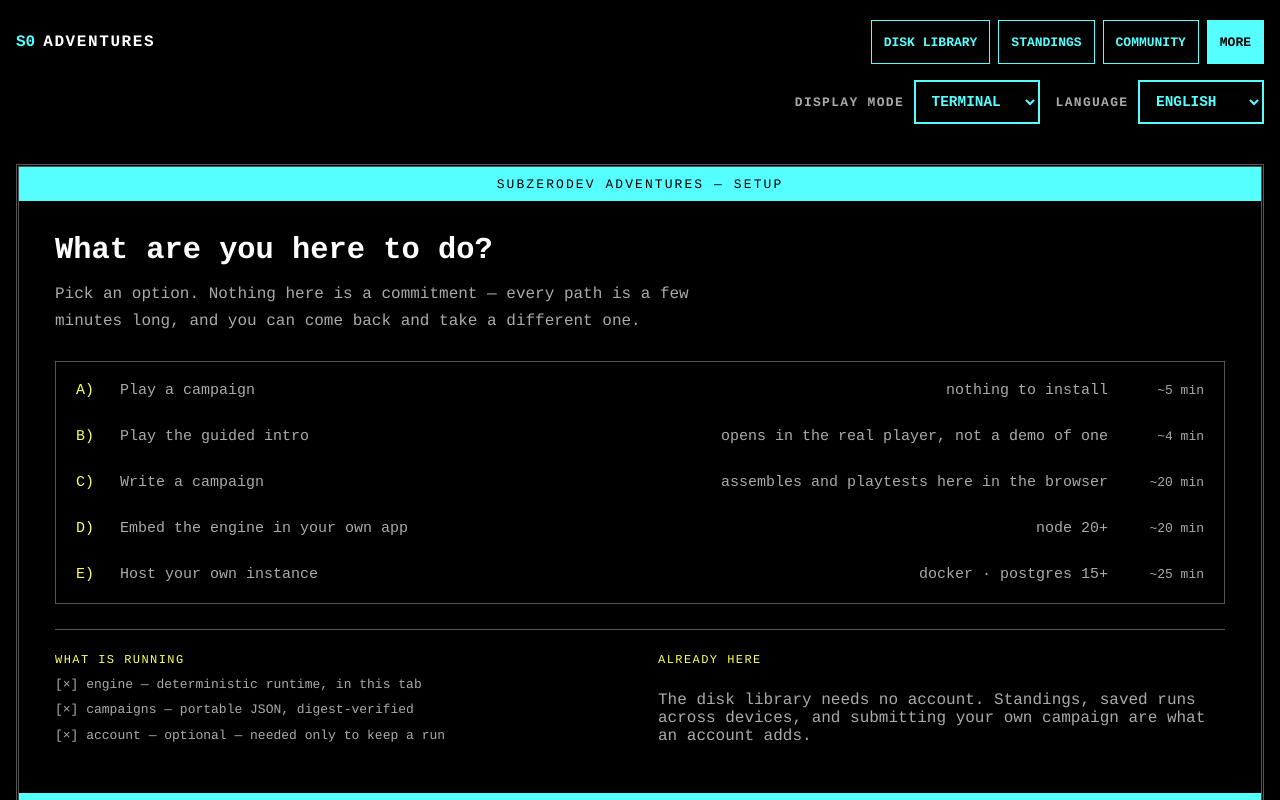
Scenario: StartPage › walks a chosen path and reports real step progress
Step 1. Click the button "A) Play a campaign nothing to install ~5 min" → (188, 390), box [62, 368, 1218, 412]
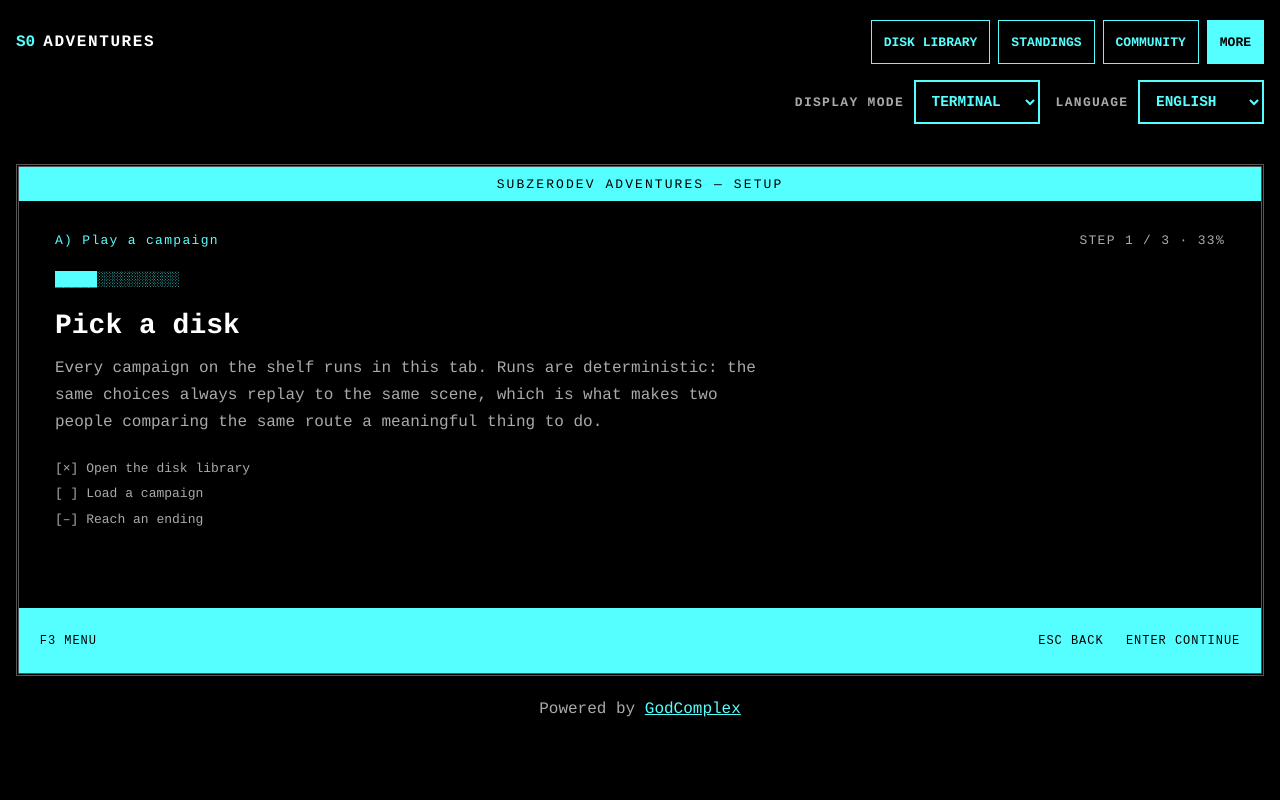
Result: the heading "Pick a disk" is shown at [55, 311, 240, 342]
Result: the text "STEP 1 / 3 · 33%" is shown at [1079, 233, 1225, 248]
Step 2. Click the button "ENTER CONTINUE" → (1183, 641), box [1123, 619, 1243, 663]
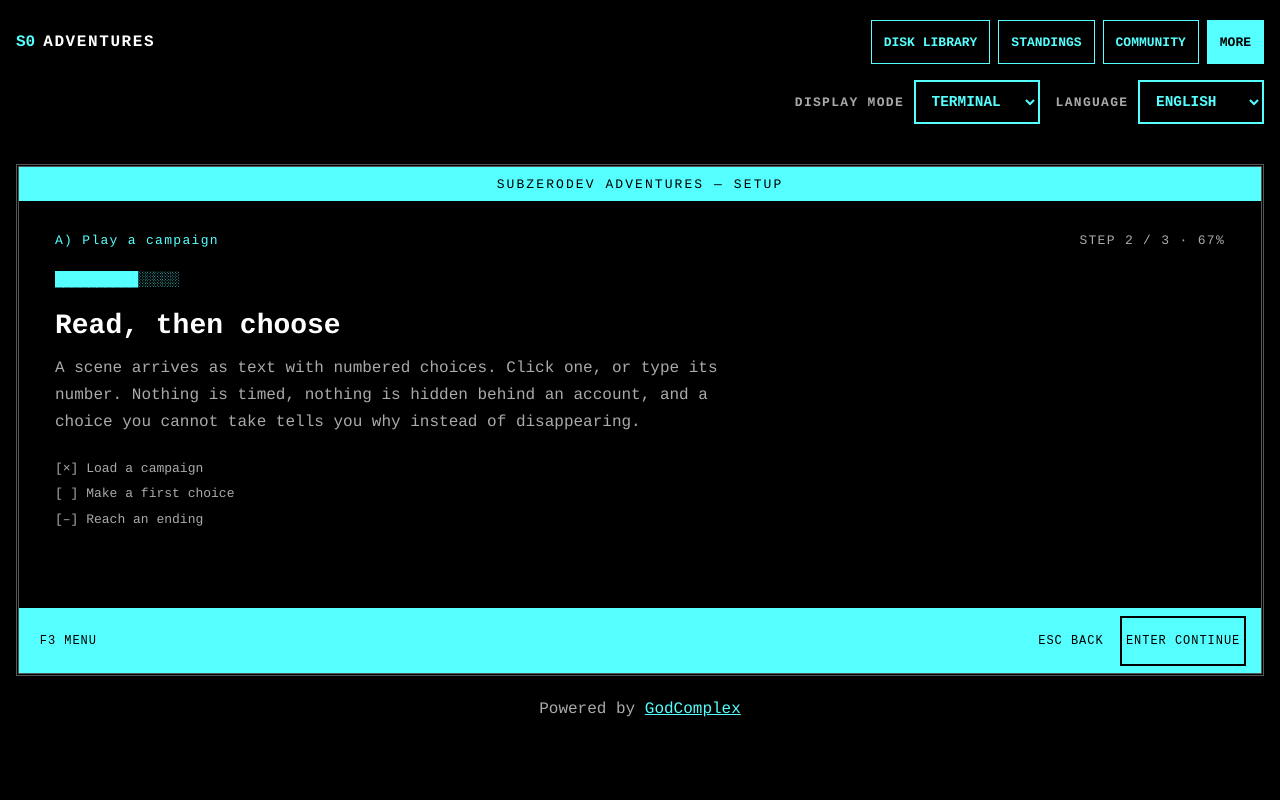
Result: the heading "Read, then choose" is shown at [55, 311, 341, 342]
Step 3. Click the button "ESC BACK" → (1071, 641), box [1035, 619, 1107, 663]
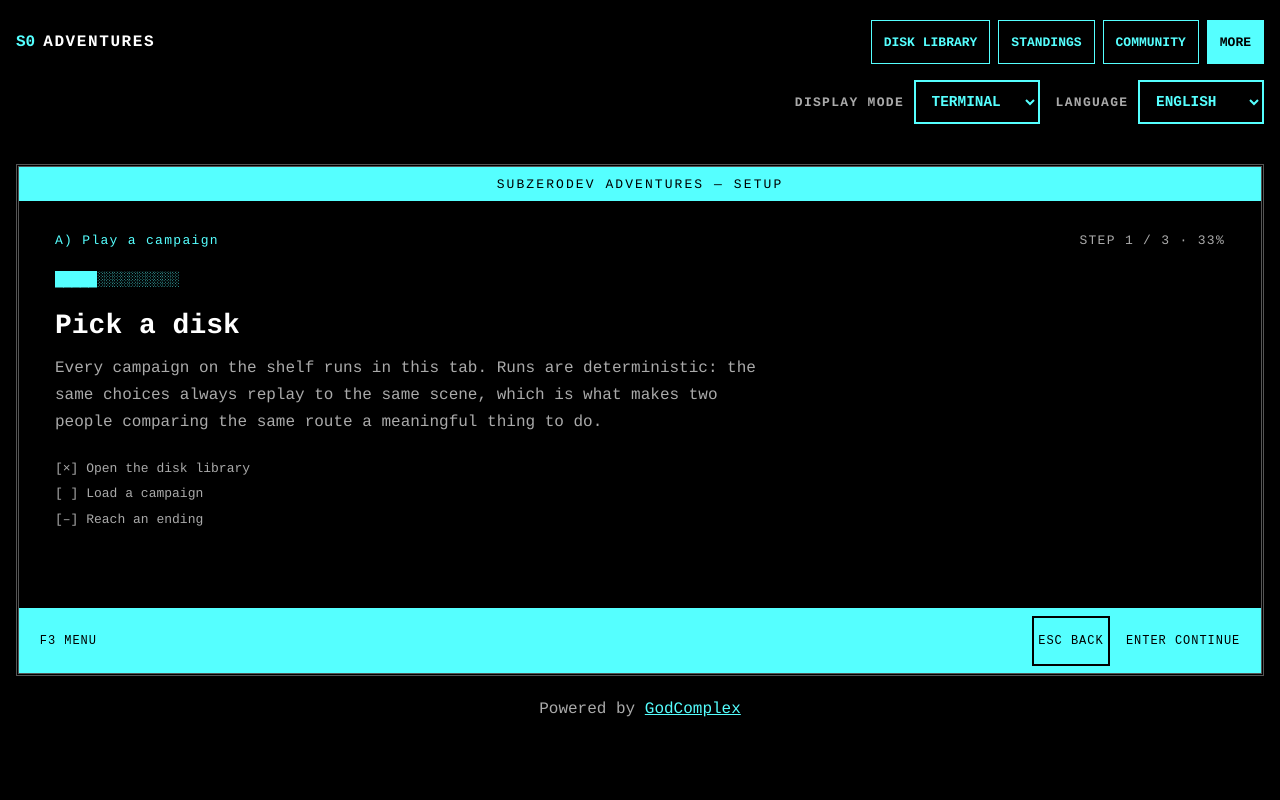
Result: the heading "Pick a disk" is shown at [55, 311, 240, 342]
